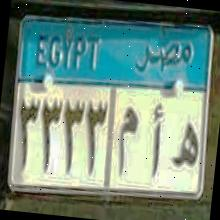3: (80, 96, 110, 178), (13, 93, 41, 170), (35, 96, 62, 174), (58, 96, 85, 172)
alif: (146, 107, 165, 171)
haa: (171, 119, 200, 173)
meem: (110, 105, 140, 180)
